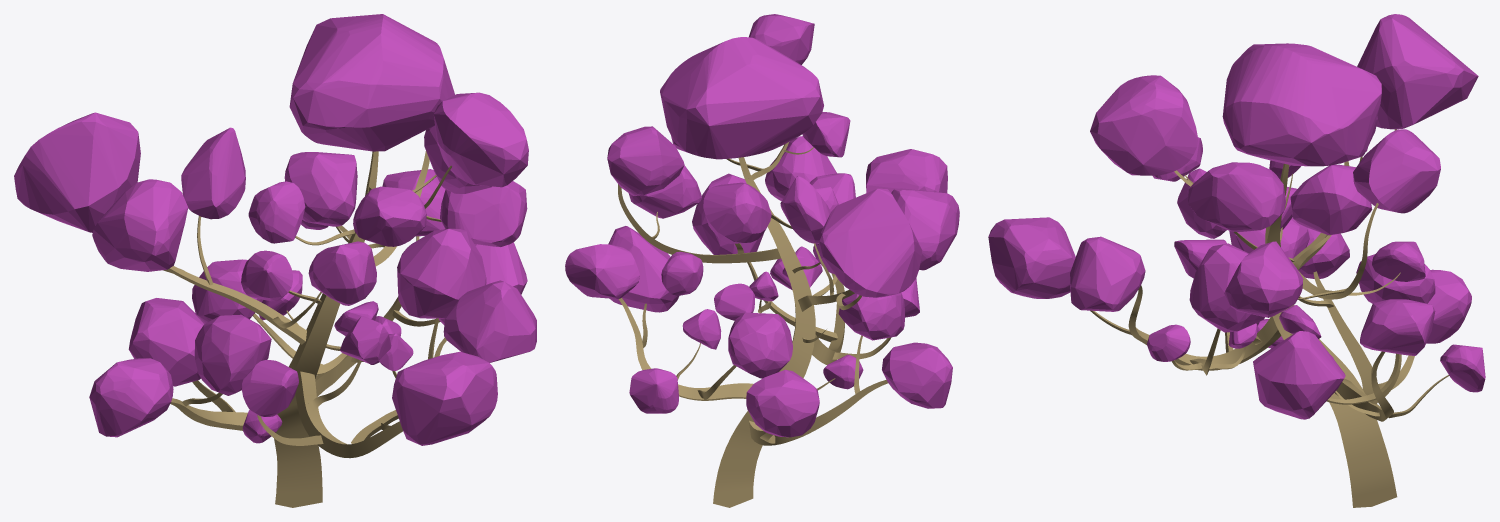
Rendered from purple_tree.glb.
3 views of the same model, side by side, from view 1: azimuth 30°, elevation 25°; view 2: azimuth 150°, elevation 25°; view 3: azimuth 270°, elevation 25° (orthographic). The views are drawn at different scales.
Visible parts, largest first — view 1: brush_MatteHull_g1_b0_4, brush_Spikes_g1_b0_1; view 2: brush_MatteHull_g1_b0_4, brush_Spikes_g1_b0_1; view 3: brush_MatteHull_g1_b0_4, brush_Spikes_g1_b0_1.
Boxes of the visible parts, bbox=[...] form: brush_MatteHull_g1_b0_4: bbox=[14, 14, 536, 445]; brush_Spikes_g1_b0_1: bbox=[163, 151, 451, 507]; brush_MatteHull_g1_b0_4: bbox=[565, 14, 959, 437]; brush_Spikes_g1_b0_1: bbox=[618, 142, 891, 507]; brush_MatteHull_g1_b0_4: bbox=[988, 14, 1485, 419]; brush_Spikes_g1_b0_1: bbox=[1090, 129, 1449, 507].
Size of the model in its own units: 6.8 by 7.69 by 7.25.
